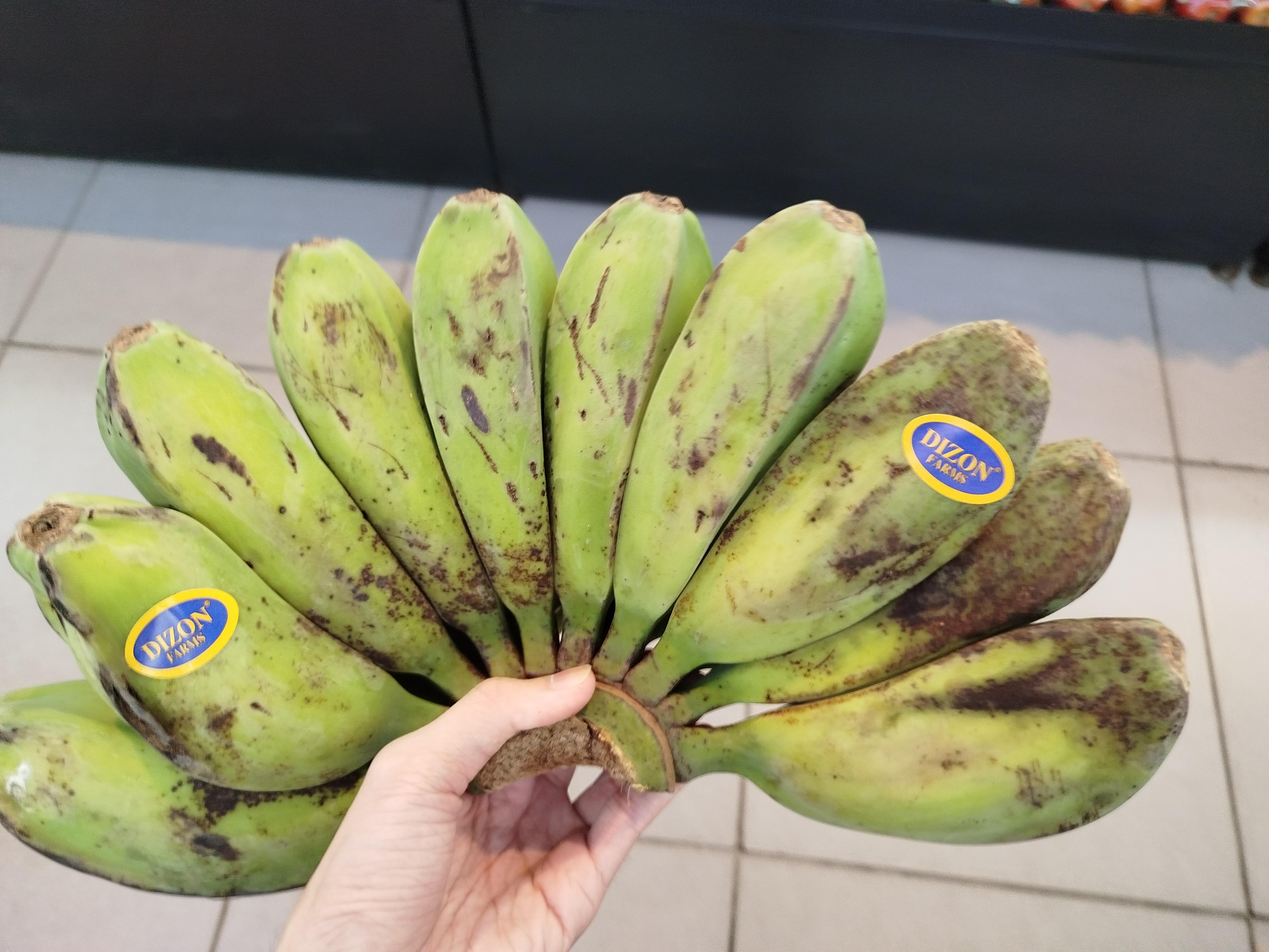underripe: (0, 189, 1188, 896)
